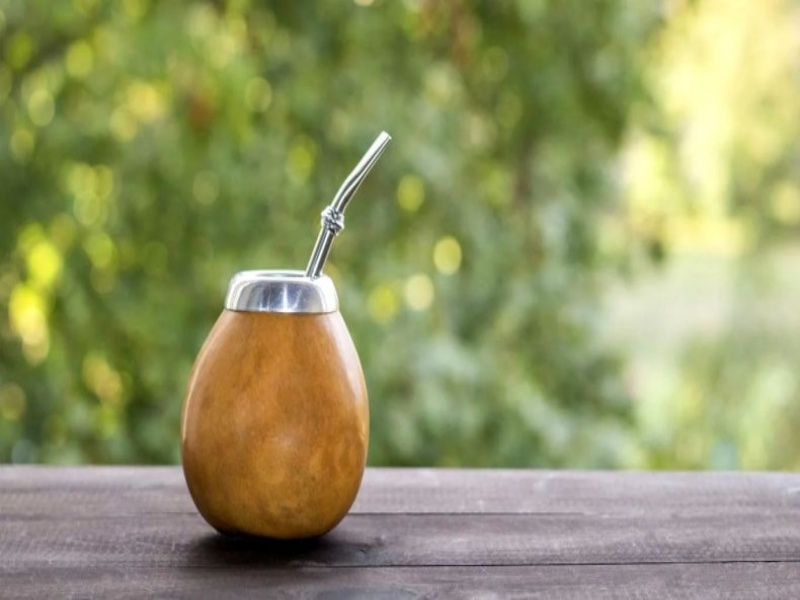guampa: (120, 117, 429, 562)
